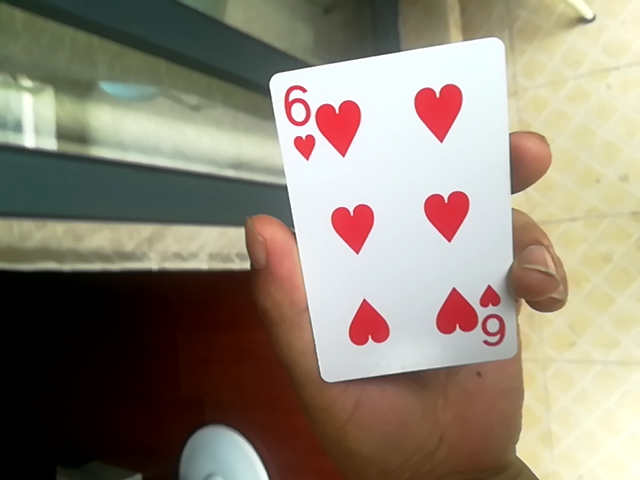hx 6: (274, 36, 519, 386)
